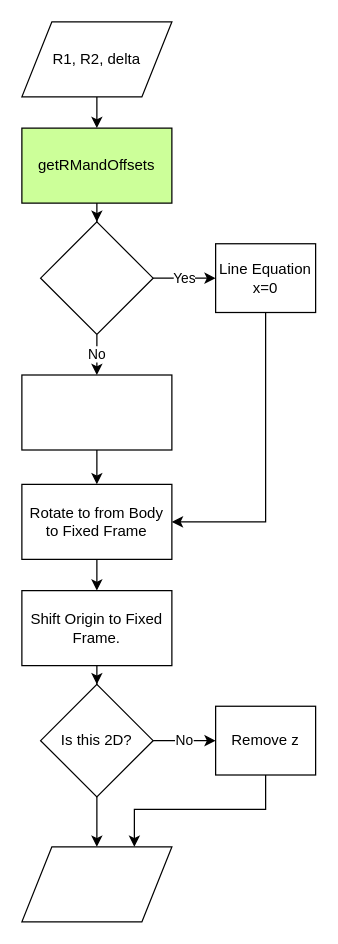
Some shapes in this 338 by 944 pixel diagram are drawn without their labels. The shapes that lost their labels are listed below. From the top down, each one's centre as x and y in pixels, then its label:
At [96,277]: "Is difference 0?".
At [96,412]: "Hyperboloid Equation".
At [96,884]: "Hyperboloid Symbolic Equation".
